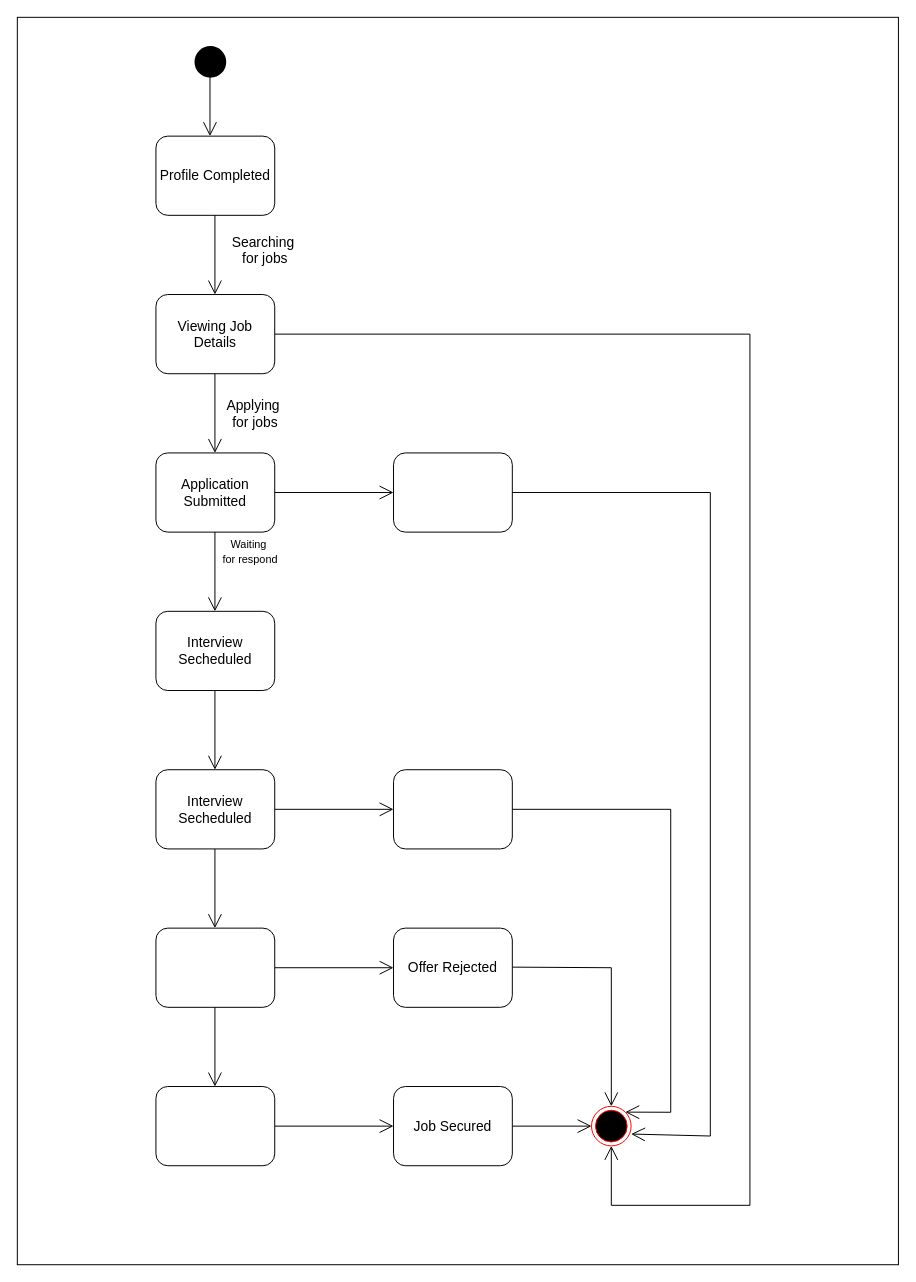
The diagram is 916 pixels wide and 1282 high, and some of its shapes have lost their labels. Each missing label, with the centre of its shape:
"Not Accepted" goes at [452,492].
"Offer Accepted" goes at [215,1126].
"Offer Not Received" goes at [452,809].
"Offer Received" goes at [215,967].
